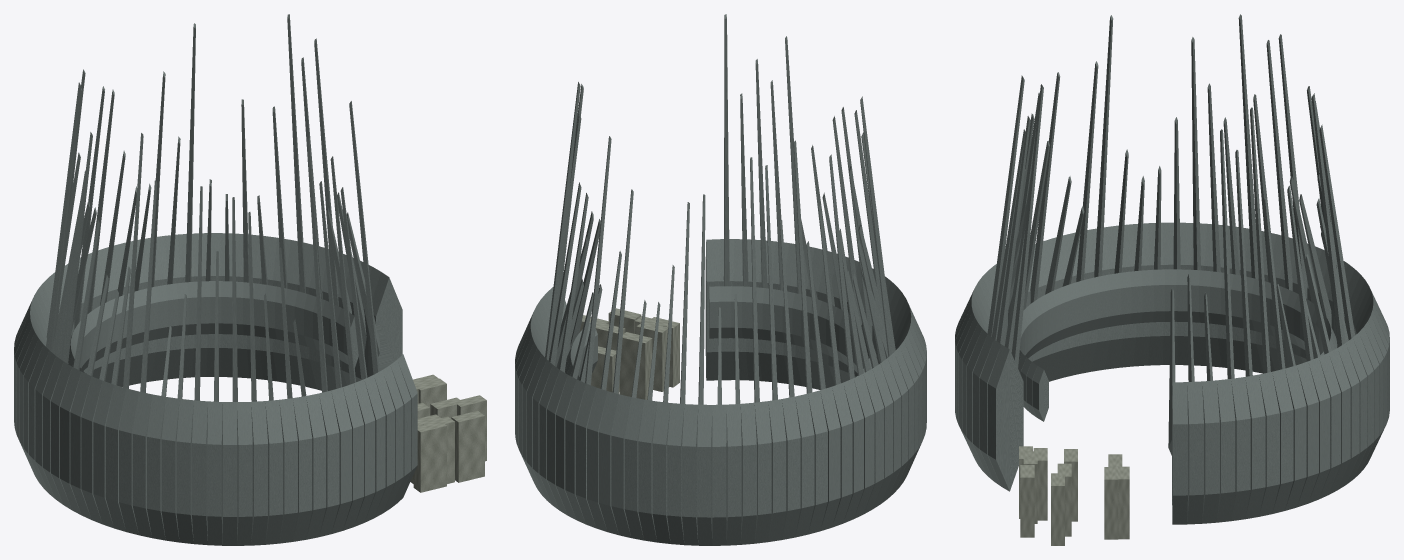
Rendered from broken_city_halo_01.fbx.
3 views of the same model, side by side, from view 1: azimuth 30°, elevation 25°; view 2: azimuth 150°, elevation 25°; view 3: azimuth 270°, elevation 25° (orthographic).
Visible parts, largest first — view 1: broken_city_halo_01_LOD0; view 2: broken_city_halo_01_LOD0; view 3: broken_city_halo_01_LOD0.
Part boxes in pixels (x1,y1,x2,y2): broken_city_halo_01_LOD0: (14,14,486,545); broken_city_halo_01_LOD0: (515,14,926,545); broken_city_halo_01_LOD0: (955,14,1389,545).
Size of what is drawn, in the model's own units: 1 by 1 by 1.
